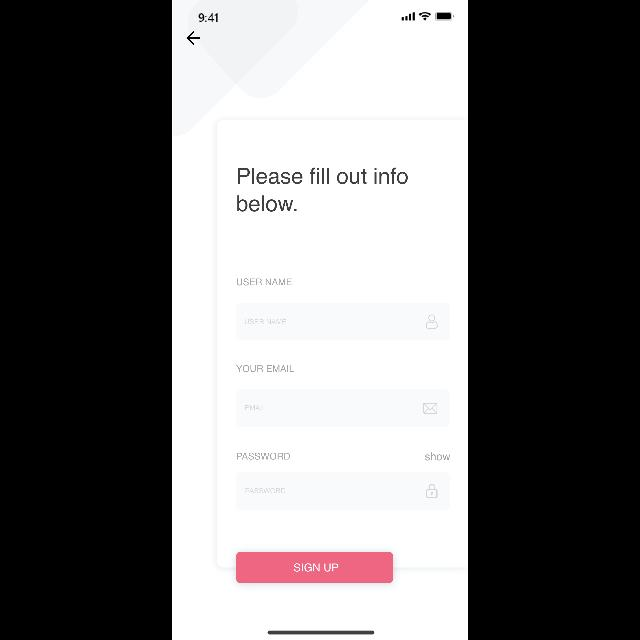icon: (187, 31, 201, 45), (426, 315, 438, 329), (427, 484, 438, 498), (424, 402, 438, 413)
input: (237, 472, 451, 510), (237, 389, 451, 427), (237, 303, 451, 341)
text: (237, 168, 408, 212), (238, 278, 292, 286), (238, 452, 290, 460), (236, 366, 294, 372), (246, 488, 286, 494), (425, 452, 451, 460), (246, 320, 286, 324), (246, 406, 266, 410)
textbutton: (236, 552, 394, 582)
uppertaskbar: (198, 12, 456, 22)
